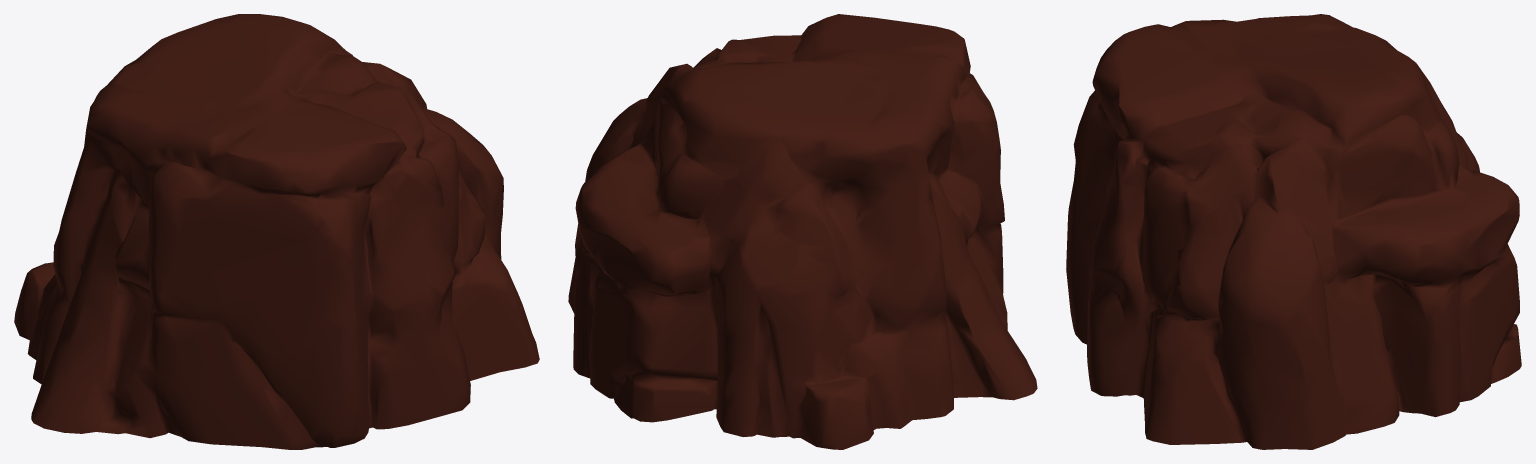
The model's file is Nature_Medium_Rock2.FBX.
The picture shows the model from 3 angles, left to right: view 1: azimuth 30°, elevation 25°; view 2: azimuth 150°, elevation 25°; view 3: azimuth 270°, elevation 25°; orthographic projection. The views are drawn at different scales.
Visible parts, largest first — view 1: Rocks_Medium2; view 2: Rocks_Medium2; view 3: Rocks_Medium2.
Boxes of the visible parts, x1,y1,x2,y2 form: Rocks_Medium2: (14,14,539,449); Rocks_Medium2: (568,14,1037,449); Rocks_Medium2: (1066,14,1521,449).
Size of the model in its own units: 540 by 328 by 480.
